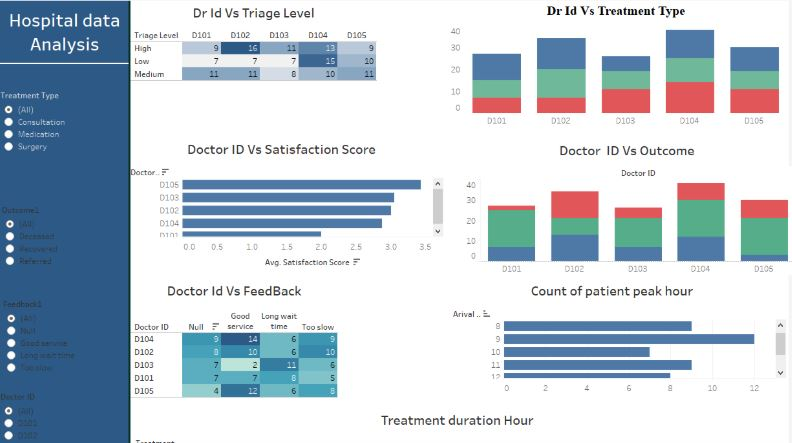

What the dashboard file says about the page in this screenshot:
{"tool":"tableau","page":{"name":"Dashboard 1","canvas":[1220,1200],"ordinal":0},"visuals":[{"type":"text","box":[0,0,200,96]},{"type":"worksheet","title":"Dr Id vs triage level","mark":"Square","rows":["TriageLevel"],"cols":["DoctorID"],"box":[202,0,483,197]},{"type":"worksheet","title":"Treatment with staff allocation","mark":"Automatic","rows":["DoctorID"],"cols":["DoctorID"],"box":[689,0,528,195]},{"type":"filter","title":"Treatment with staff allocation","param":"[federated.1lm3wqo09ybdu0185ci8l1dosw5h].[none:TreatmentType:nk]","box":[1,138,193,100]},{"type":"worksheet","title":"Dr id vs satifaction score","mark":"Automatic","rows":["DoctorID"],"cols":["SatisfactionScore"],"box":[202,211,484,209]},{"type":"filter","title":"Treatment with staff allocation","param":"[federated.1lm3wqo09ybdu0185ci8l1dosw5h].[none:Outcome:nk]","box":[3,315,193,100]},{"type":"worksheet","title":"Dr id vs feedback","mark":"Square","rows":["DoctorID"],"cols":["Feedback"],"box":[202,430,489,187]},{"type":"worksheet","title":"Peak hour","mark":"Automatic","rows":["Arival Hour"],"cols":["Arival Hour"],"box":[699,430,517,184]},{"type":"filter","title":"Treatment with staff allocation","param":"[federated.1lm3wqo09ybdu0185ci8l1dosw5h].[none:Feedback:nk]","box":[5,461,191,119]},{"type":"filter","title":"Treatment with staff allocation","param":"[federated.1lm3wqo09ybdu0185ci8l1dosw5h].[none:DoctorID:nk]","box":[1,604,195,152]},{"type":"worksheet","title":"Treatment Duration Hour","mark":"Automatic","rows":["TreatmentType"],"cols":["Calculation_900438481680994304"],"box":[205,630,1005,267]}]}

Visuals, with their boxes on the page's 1220x1200 design canvas (x1, y1, x2, y2). These are canvas units, not pixel positions in the 792x443 screenshot, which may show the page scaled, cropped or inside an application window:
text: box(0, 0, 200, 96)
"Dr Id vs triage level" worksheet (Square marks): box(202, 0, 685, 197)
"Treatment with staff allocation" worksheet: box(689, 0, 1217, 195)
"Treatment with staff allocation" filter: box(1, 138, 194, 238)
"Dr id vs satifaction score" worksheet: box(202, 211, 686, 420)
"Treatment with staff allocation" filter: box(3, 315, 196, 415)
"Dr id vs feedback" worksheet (Square marks): box(202, 430, 691, 617)
"Peak hour" worksheet: box(699, 430, 1216, 614)
"Treatment with staff allocation" filter: box(5, 461, 196, 580)
"Treatment with staff allocation" filter: box(1, 604, 196, 756)
"Treatment Duration Hour" worksheet: box(205, 630, 1210, 897)
